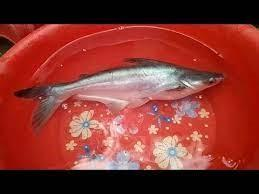Pangasius: (11, 56, 226, 137)
